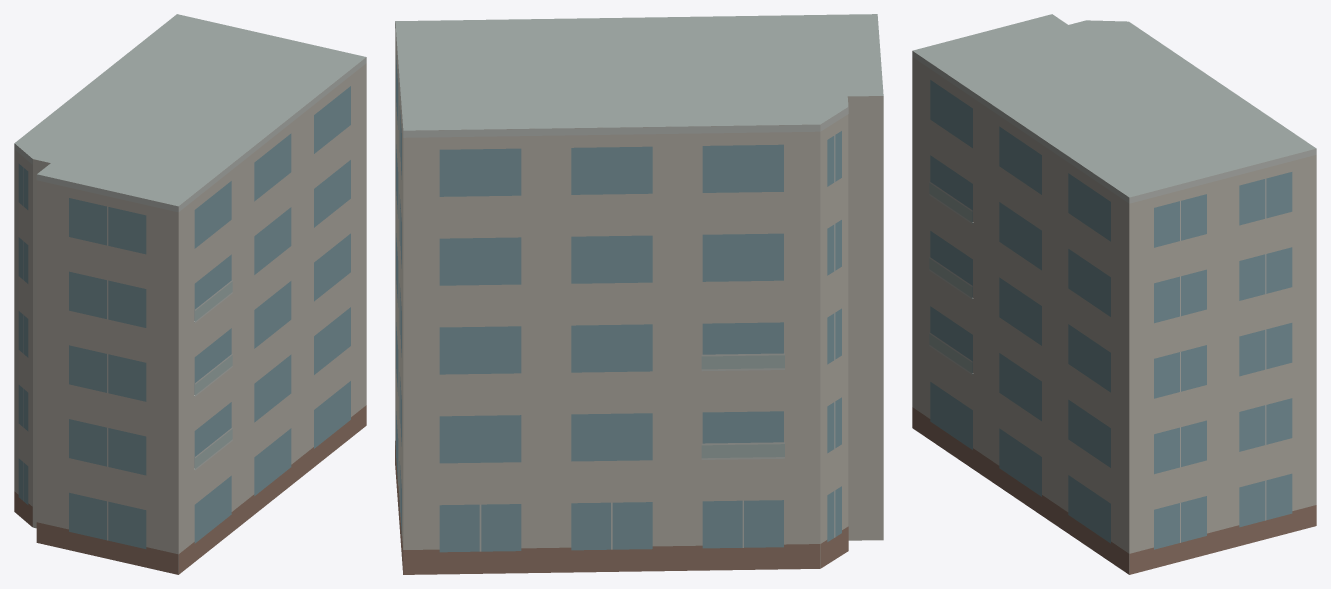
Rendered from survey-upis-32871736.glb.
3 renders of one model, left to right at view 1: azimuth 30°, elevation 25°; view 2: azimuth 150°, elevation 25°; view 3: azimuth 270°, elevation 25°, orthographic. The views are drawn at different scales.
Visible parts, largest first — view 1: survey-upis-32871736.tmp; view 2: survey-upis-32871736.tmp; view 3: survey-upis-32871736.tmp.
Part boxes in pixels (<box>): survey-upis-32871736.tmp: <box>14,14,366,574</box>; survey-upis-32871736.tmp: <box>395,14,883,574</box>; survey-upis-32871736.tmp: <box>912,14,1316,574</box>.
Bounding box in the file's own units: 15.66 × 15 × 14.58.
